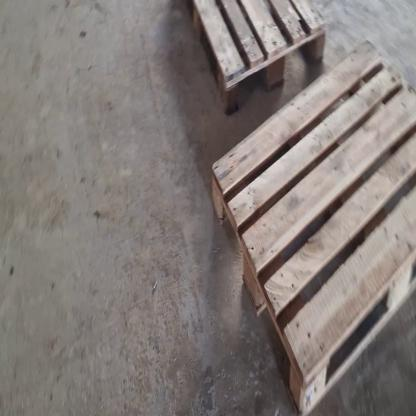BoxFace: (210, 40, 416, 416)
